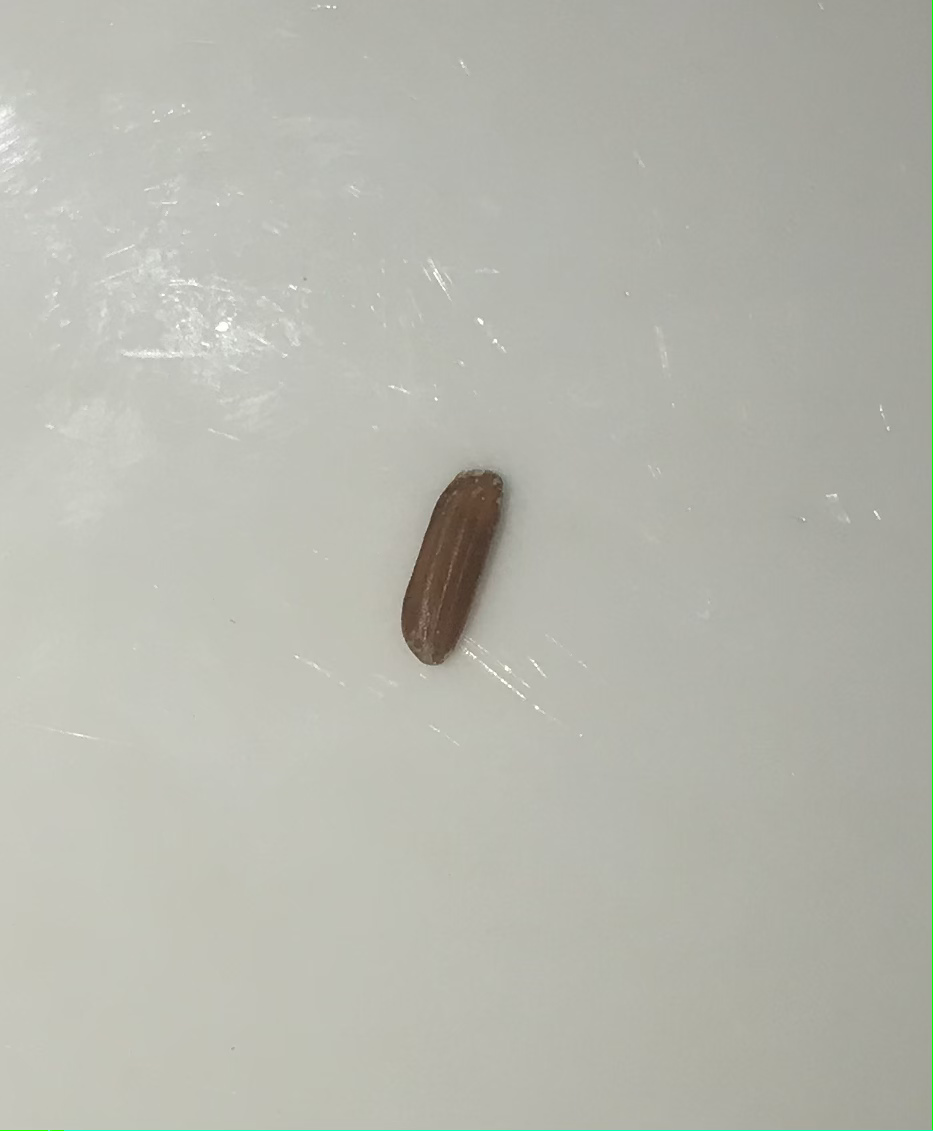Gao Lut Do: (380, 449, 538, 664)
